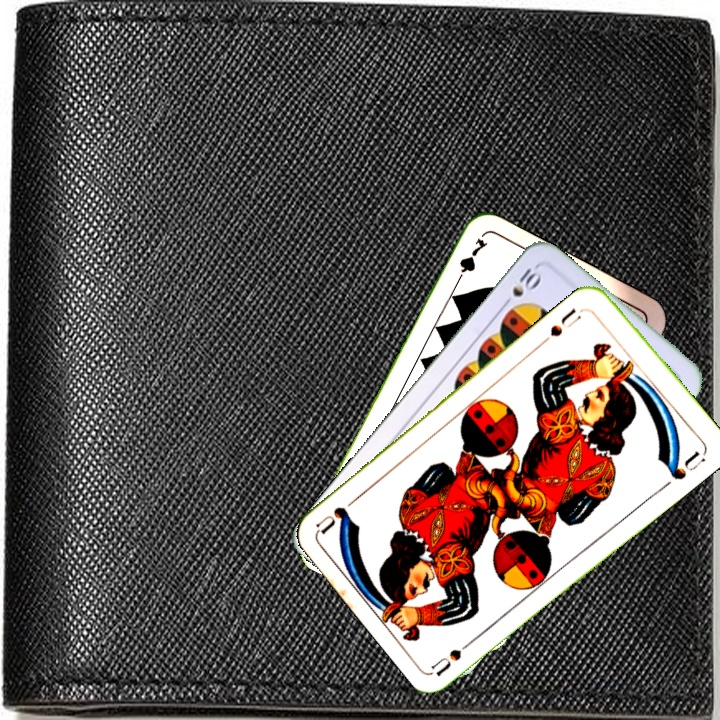G7: (450, 234, 490, 289)
S10: (497, 264, 545, 311)
SU: (429, 631, 482, 677), (539, 303, 590, 345)
